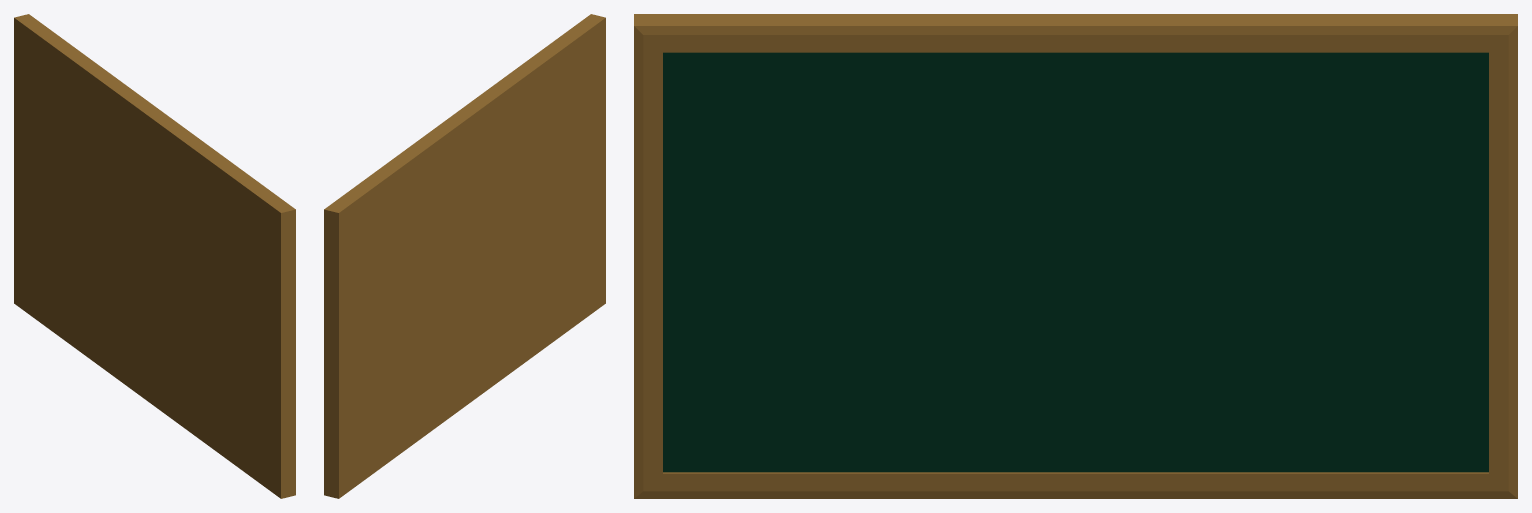
File: board.glb
3 renders of one model, left to right at view 1: azimuth 30°, elevation 25°; view 2: azimuth 150°, elevation 25°; view 3: azimuth 270°, elevation 25°, orthographic. The views are drawn at different scales.
Visible parts, largest first — view 1: Cube; view 2: Cube; view 3: Cube.002, Cube.
Boxes of the visible parts, <box> form: Cube: <box>14,14,295,498</box>; Cube: <box>324,14,605,498</box>; Cube.002: <box>663,52,1488,472</box>; Cube: <box>634,14,1517,498</box>.
Bounding box in the file's own units: 0.1713 × 2.99 × 5.07.
